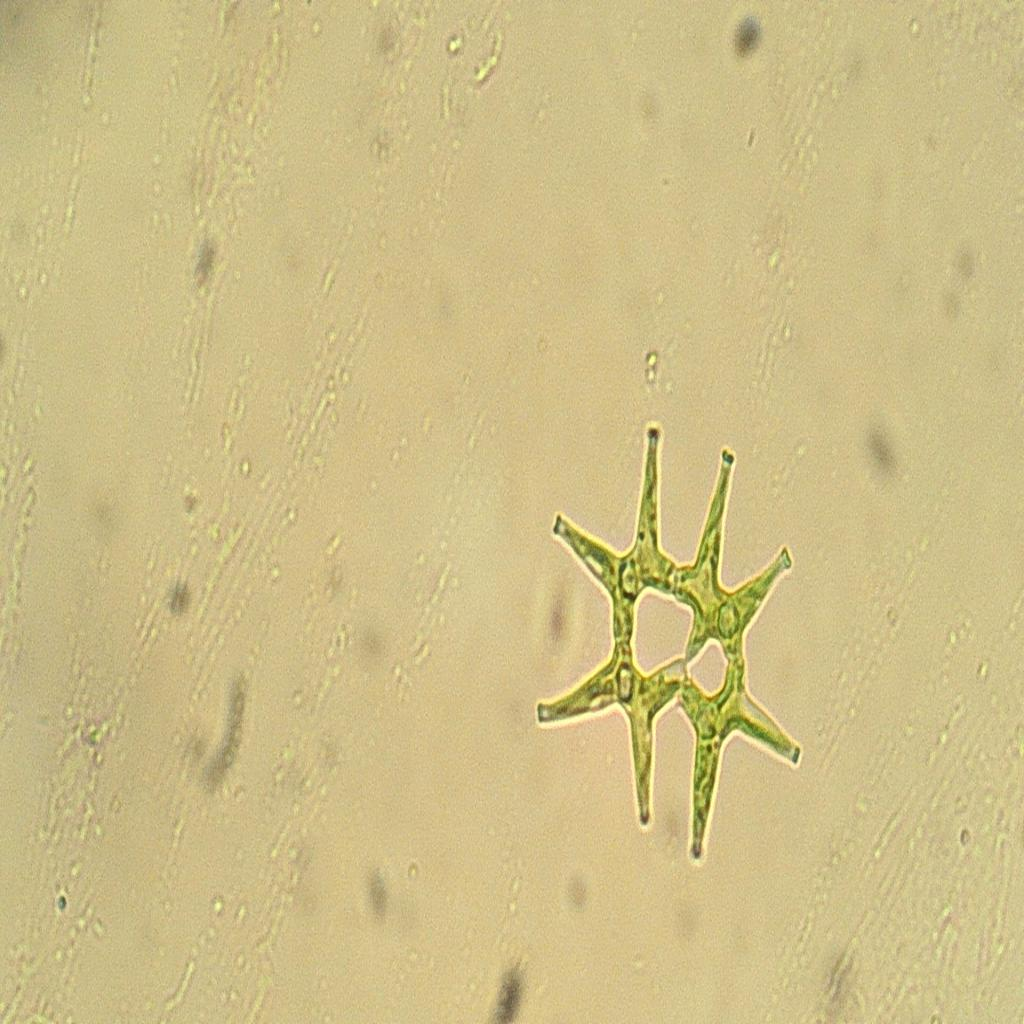Pediastrum_75FO: (515, 411, 843, 874)
